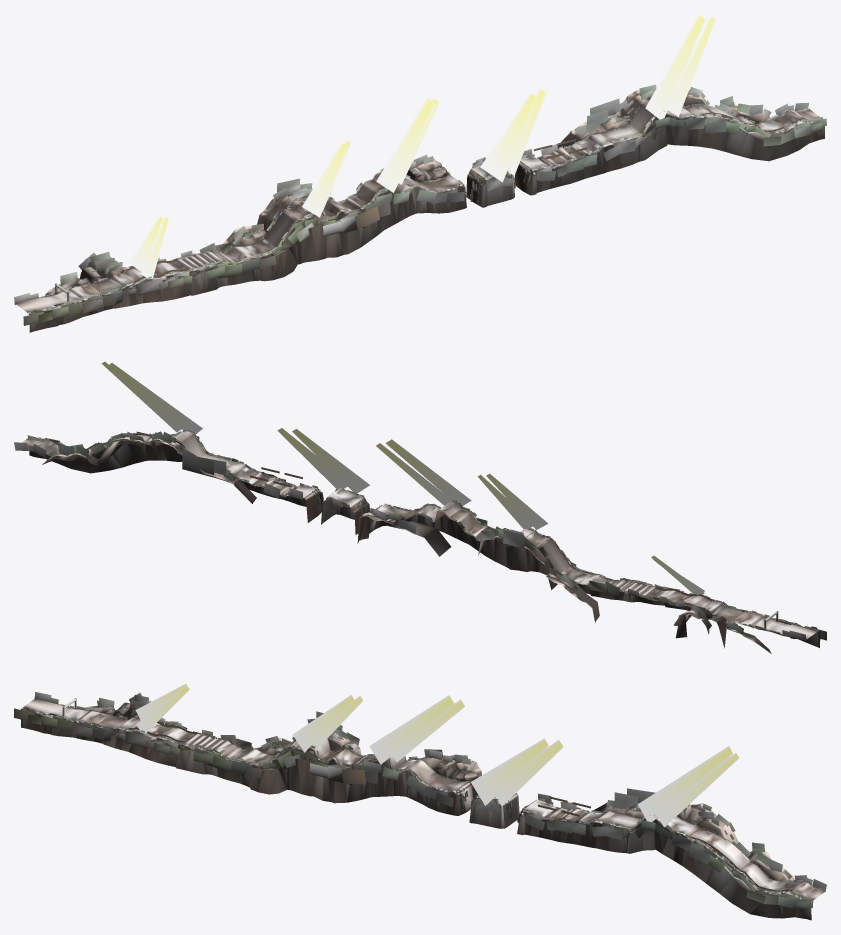
Rendered from Forest_15.fbx.
3 views of the same model, one above another, from view 1: azimuth 30°, elevation 25°; view 2: azimuth 150°, elevation 25°; view 3: azimuth 330°, elevation 25° (orthographic).
Visible parts, largest first — view 1: Mountain_01, Tree_01, Light_01, Ground_01, Leak_01; view 2: Mountain_01, Tree_01, Ground_01, Light_01; view 3: Mountain_01, Tree_01, Light_01, Ground_01, Leak_01.
Part boxes in pixels (<box>): Mountain_01: <box>28,89,824,332</box>; Tree_01: <box>14,84,826,325</box>; Light_01: <box>128,14,715,277</box>; Ground_01: <box>15,101,820,313</box>; Leak_01: <box>127,112,800,282</box>; Mountain_01: <box>29,431,820,653</box>; Tree_01: <box>14,430,826,640</box>; Ground_01: <box>22,431,818,640</box>; Light_01: <box>101,361,704,594</box>; Mountain_01: <box>20,700,812,920</box>; Tree_01: <box>14,692,826,909</box>; Light_01: <box>135,683,739,827</box>; Ground_01: <box>23,698,825,900</box>; Leak_01: <box>128,722,791,891</box>.
Bounding box in the file's own units: 46748 × 7872 × 3543.
